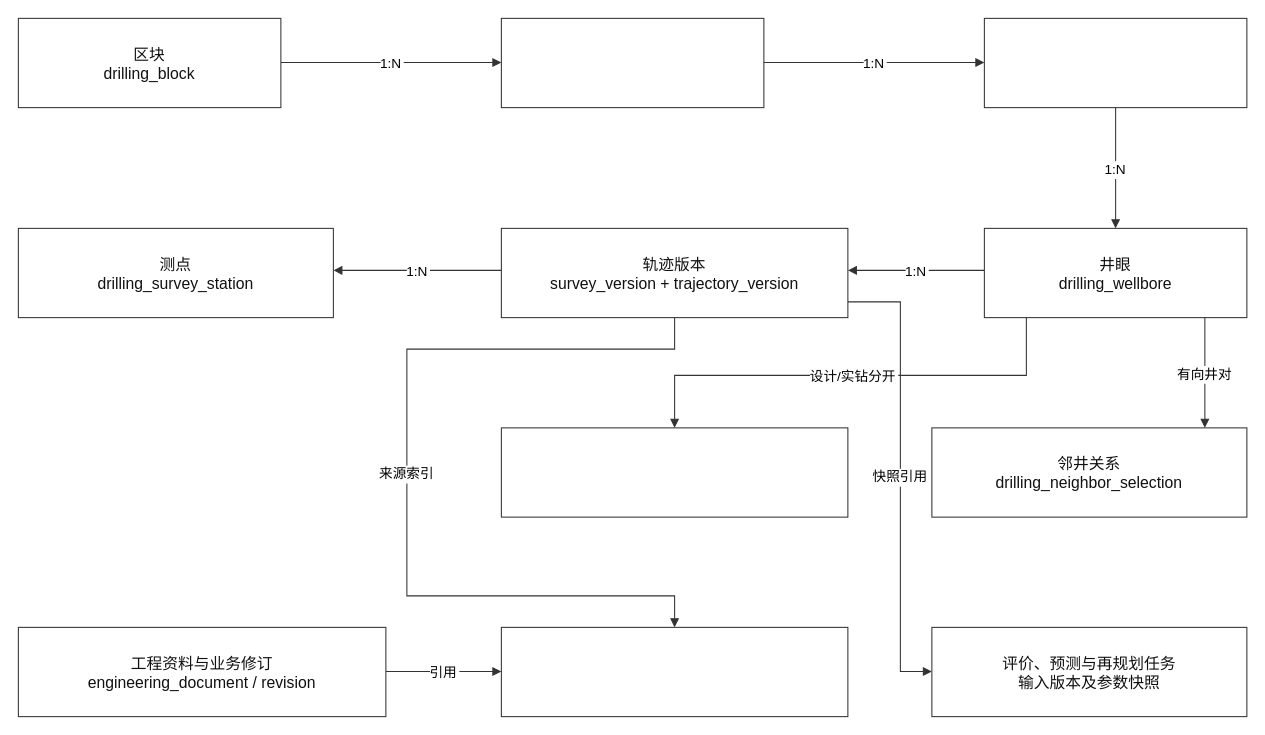
Image size: 1265x735. Some labels were removed from this diagram. Here are the shapes that lost their labels. From the top down, the centre of each, then its label:
[632,62]: 井场 drilling_field
[1115,62]: 井 drilling_well
[674,472]: 当前版本指针 drilling_trajectory_head
[674,671]: 来源原件与解析 data_file / source_document
